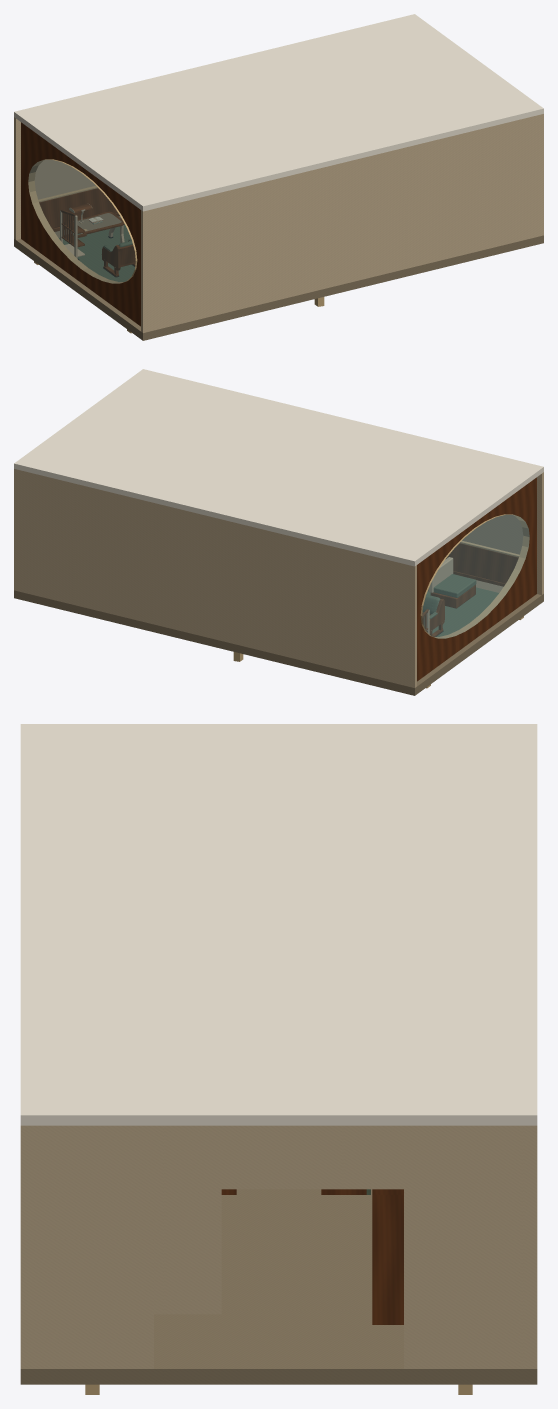
File: NG512_AtriumInterior_r001.glb
The picture shows the model from 3 angles, top to bottom: view 1: azimuth 30°, elevation 25°; view 2: azimuth 150°, elevation 25°; view 3: azimuth 270°, elevation 25°; orthographic projection. The views are drawn at different scales.
Visible parts, largest first — view 1: NG512_RuntimeBatch_001, NG512_OvalAtriumGlass, NG512_RuntimeBatch_002, NG512_RoomFloor, NGA_512_OutlookFloorInlay, NGA_512_South_LowPanel, NG512_RuntimeBatch_004, NG512_RuntimeBatch_007, NG512_RuntimeBatch_028, NG512_RuntimeBatch_008, NG512_LibraryStudyEdge__SINGLE_inset_stone_writing_surface; view 2: NG512_RuntimeBatch_001, NG512_OvalAtriumGlass, NG512_RuntimeBatch_002, NG512_RoomFloor, NGA_512_North_LowPanel, NG512_RuntimeBatch_004, NGA_512_OutlookFloorInlay, NGA_512_ViewSeat_Cushion, NGA_512_ViewSeat_Base; view 3: NG512_RuntimeBatch_001, NG512_RoomFloor, NG512_RuntimeBatch_002.
Part boxes in pixels (x1,y1,x2,y2): NG512_RuntimeBatch_001: [14, 14, 543, 332]; NG512_OvalAtriumGlass: [28, 160, 135, 283]; NG512_RuntimeBatch_002: [21, 122, 140, 326]; NG512_RoomFloor: [14, 216, 543, 340]; NGA_512_OutlookFloorInlay: [59, 225, 134, 281]; NGA_512_South_LowPanel: [39, 188, 117, 228]; NG512_RuntimeBatch_004: [28, 159, 324, 333]; NG512_RuntimeBatch_007: [60, 209, 124, 246]; NG512_RuntimeBatch_028: [102, 241, 135, 276]; NG512_RuntimeBatch_008: [60, 211, 124, 258]; NG512_LibraryStudyEdge__SINGLE_inset_stone_writing_surface: [77, 213, 121, 231]; NG512_RuntimeBatch_001: [14, 369, 543, 687]; NG512_OvalAtriumGlass: [422, 515, 529, 638]; NG512_RuntimeBatch_002: [417, 477, 536, 681]; NG512_RoomFloor: [14, 580, 543, 695]; NGA_512_North_LowPanel: [446, 543, 518, 583]; NG512_RuntimeBatch_004: [233, 514, 529, 688]; NGA_512_OutlookFloorInlay: [426, 587, 498, 636]; NGA_512_ViewSeat_Cushion: [433, 574, 476, 597]; NGA_512_ViewSeat_Base: [430, 585, 475, 608]; NG512_RuntimeBatch_001: [20, 724, 537, 1368]; NG512_RoomFloor: [20, 1189, 537, 1384]; NG512_RuntimeBatch_002: [221, 1189, 403, 1324].
Bounding box in the file's own units: 12.9 × 4.91 × 7.2.
Materials: 36 (20 with a texture image).
